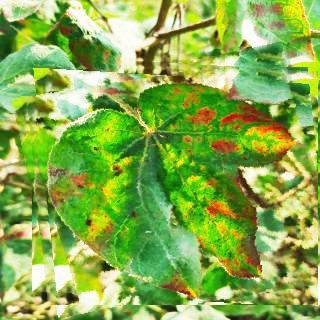blight: (22, 54, 318, 305)
